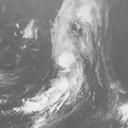cyclone: (49, 39, 81, 75)
